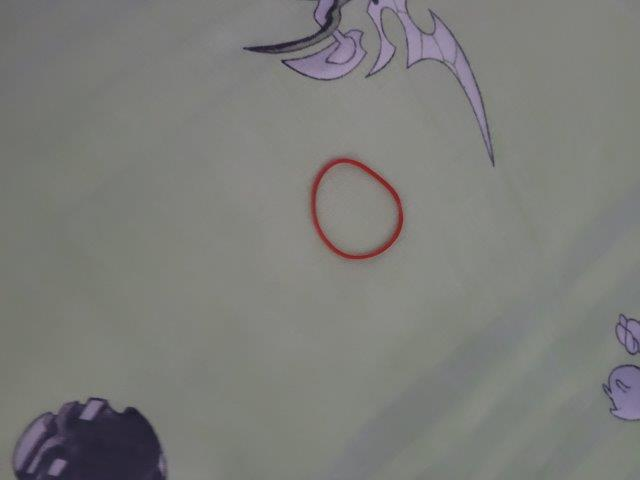karet: (311, 157, 405, 262)
